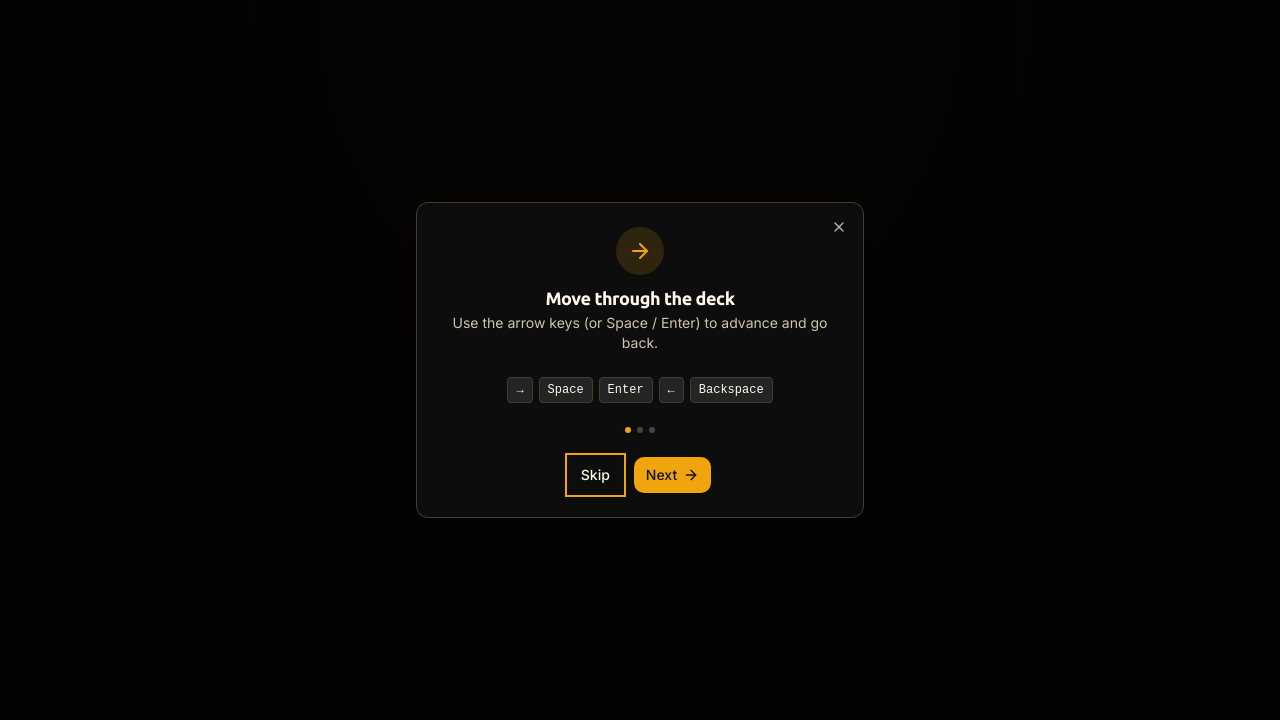
OnboardingCoachmark › advances through steps via Next
Click the button "Next" at (673, 475), box left=634, top=457, right=711, bottom=493
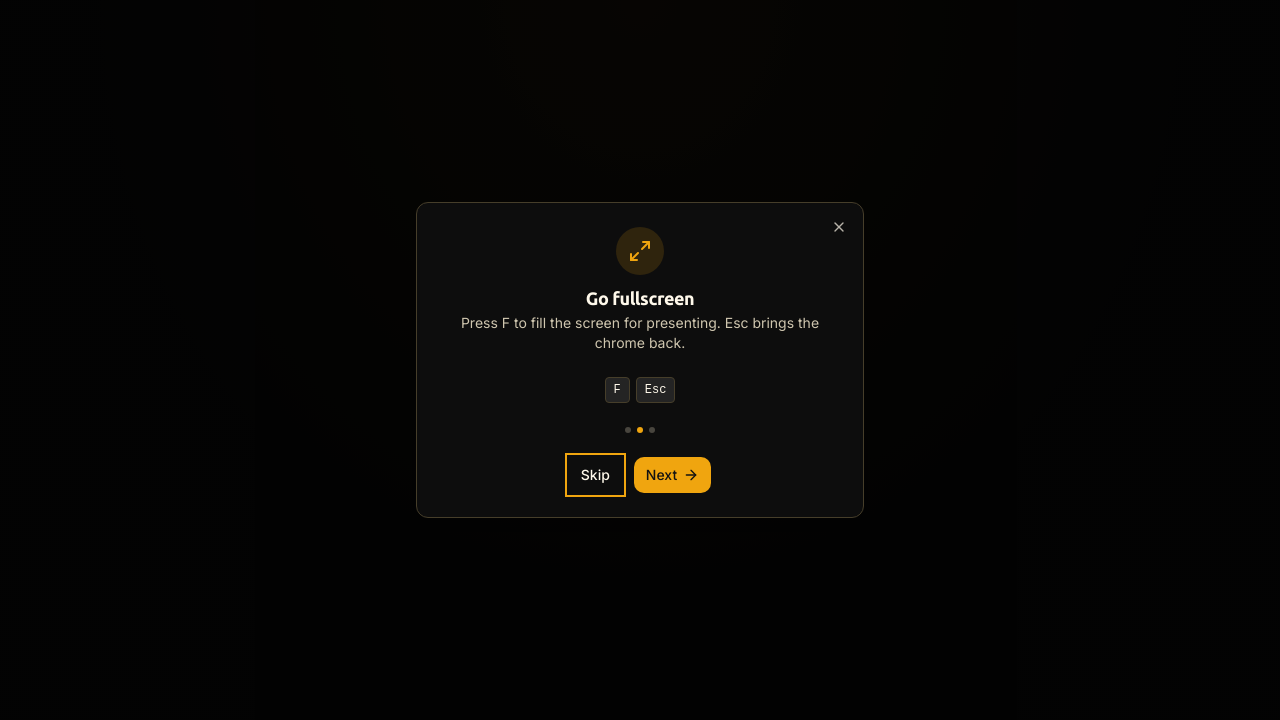
Now the heading "Go fullscreen" is shown, box left=586, top=289, right=694, bottom=307
